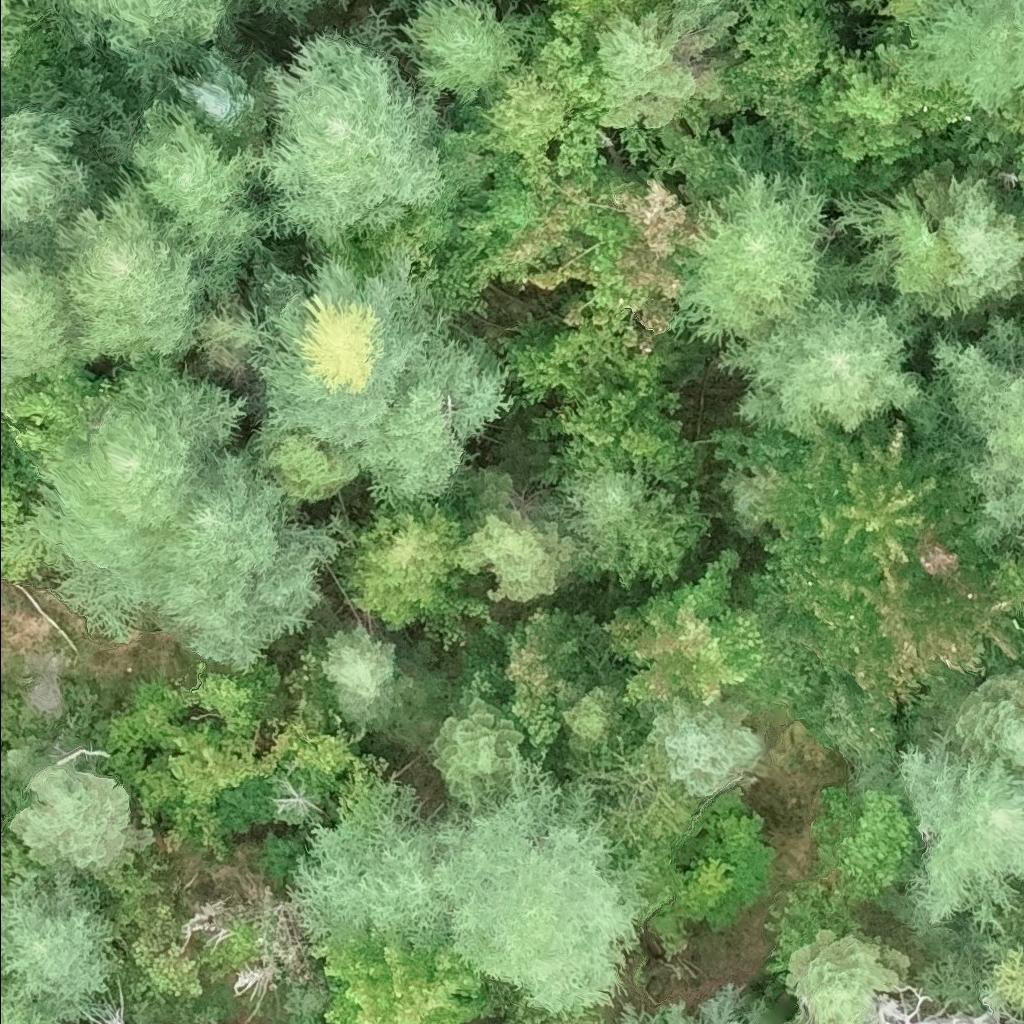crown: (10, 357, 354, 672), (772, 424, 1023, 694), (429, 764, 650, 1019), (252, 244, 448, 448), (266, 35, 447, 249), (48, 171, 241, 366), (507, 324, 710, 482), (552, 150, 704, 338), (717, 297, 925, 434), (352, 339, 518, 508), (896, 721, 1023, 925), (678, 175, 831, 344), (282, 804, 448, 959), (616, 546, 764, 709), (131, 101, 269, 264), (534, 459, 713, 579), (939, 323, 1023, 542), (0, 874, 119, 1022), (42, 0, 233, 86), (455, 476, 579, 602), (345, 499, 464, 629), (324, 932, 487, 1023), (11, 767, 157, 868), (732, 0, 840, 133), (834, 194, 953, 312), (907, 0, 1023, 119), (0, 111, 93, 250), (401, 0, 525, 102), (780, 932, 913, 1023), (595, 12, 697, 130), (649, 696, 765, 796), (0, 234, 75, 388), (318, 620, 414, 733), (432, 699, 525, 801), (253, 422, 362, 503), (127, 903, 202, 1002), (841, 794, 914, 892), (959, 671, 1023, 772), (616, 977, 753, 1023), (868, 990, 1006, 1023), (0, 0, 51, 67), (0, 971, 58, 1023), (84, 977, 129, 1023), (551, 0, 627, 22), (257, 0, 318, 22), (0, 481, 29, 527), (1018, 897, 1023, 1016), (196, 1017, 214, 1023), (1021, 157, 1023, 182), (1021, 209, 1023, 229)
